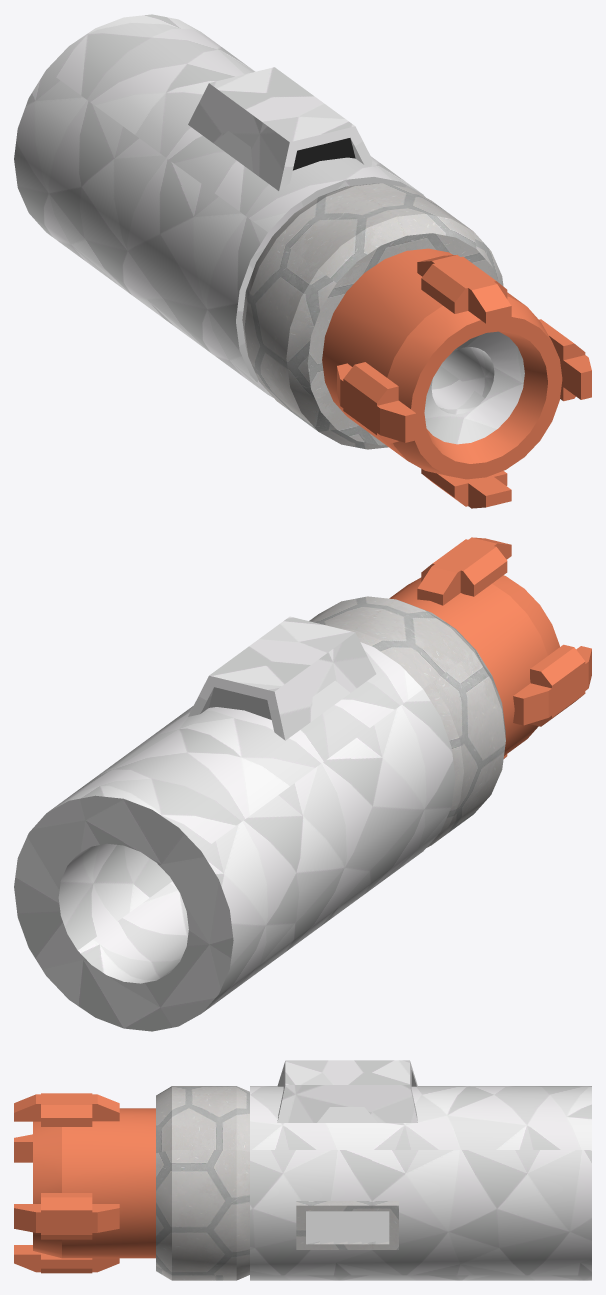
The model's file is canon.fbx.
3 renders of one model, top to bottom at view 1: azimuth 30°, elevation 25°; view 2: azimuth 150°, elevation 25°; view 3: azimuth 270°, elevation 25°, orthographic. The views are drawn at different scales.
Parts seen in each view (by area): view 1: cylinder_hollow_502, wheel_future_528, wheel_large_517, engine_intake_531, engine_intake_532, guard_slant_cross_521, guard_slant_cross_507, guard_slant_cross_520, guard_slant_cross_519; view 2: cylinder_hollow_502, wheel_large_517, wheel_future_528, engine_intake_532, engine_intake_531, guard_slant_cross_521, guard_slant_cross_507; view 3: cylinder_hollow_502, wheel_large_517, wheel_future_528, air_vent_565, engine_intake_532, engine_intake_531, guard_slant_cross_519, guard_slant_cross_507, guard_slant_cross_520, guard_slant_cross_521.
Boxes of the visible parts, <box> form: cylinder_hollow_502: <box>14,14,424,397</box>; wheel_future_528: <box>322,248,562,479</box>; wheel_large_517: <box>242,183,503,449</box>; engine_intake_531: <box>233,96,376,190</box>; engine_intake_532: <box>188,67,314,157</box>; guard_slant_cross_521: <box>337,362,416,443</box>; guard_slant_cross_507: <box>417,255,511,323</box>; guard_slant_cross_520: <box>421,469,511,508</box>; guard_slant_cross_519: <box>539,319,591,401</box>; cylinder_hollow_502: <box>14,642,455,1031</box>; wheel_large_517: <box>309,596,505,847</box>; wheel_future_528: <box>389,575,559,755</box>; engine_intake_532: <box>188,646,330,740</box>; engine_intake_531: <box>250,616,376,706</box>; guard_slant_cross_521: <box>513,644,591,726</box>; guard_slant_cross_507: <box>417,537,511,605</box>; cylinder_hollow_502: <box>250,1086,591,1280</box>; wheel_large_517: <box>156,1086,249,1280</box>; wheel_future_528: <box>33,1108,155,1258</box>; air_vent_565: <box>296,1201,398,1249</box>; engine_intake_532: <box>347,1060,417,1122</box>; engine_intake_531: <box>277,1060,347,1122</box>; guard_slant_cross_519: <box>14,1193,119,1239</box>; guard_slant_cross_507: <box>14,1093,119,1126</box>; guard_slant_cross_520: <box>14,1245,119,1273</box>; guard_slant_cross_521: <box>14,1134,32,1162</box>.
Size of the model in its own units: 8.31 by 9 by 23.66.
5 materials, 2 textured.
